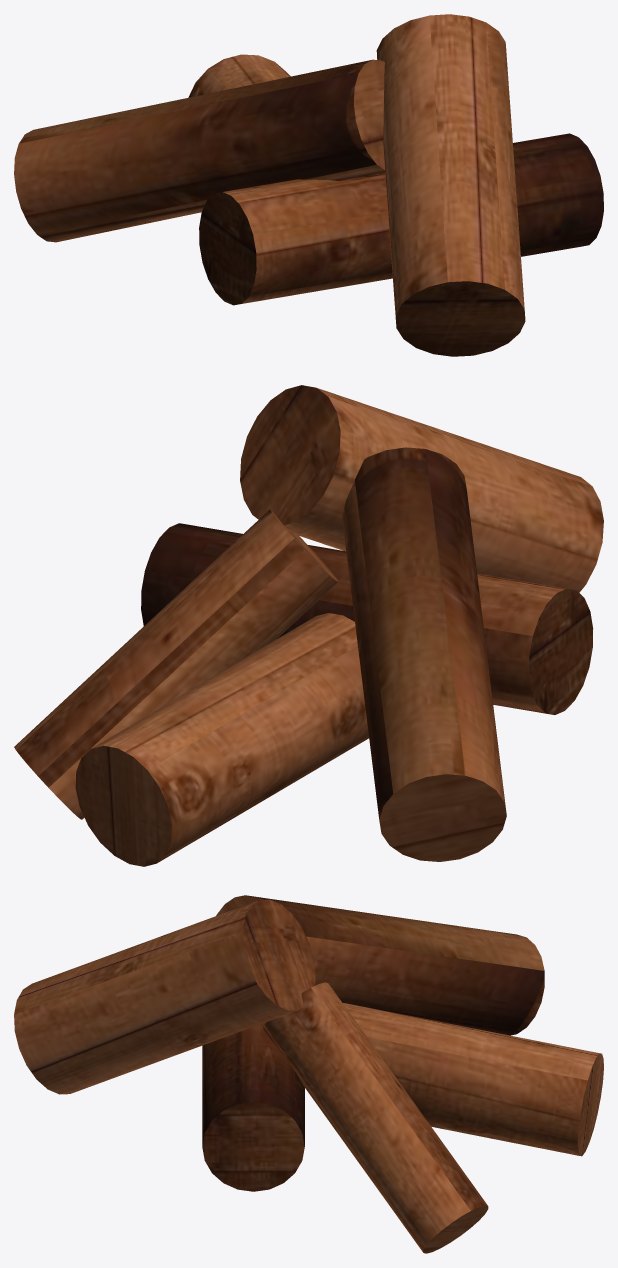
The model's file is wood.fbx.
The picture shows the model from 3 angles, top to bottom: view 1: azimuth 30°, elevation 25°; view 2: azimuth 150°, elevation 25°; view 3: azimuth 270°, elevation 25°; orthographic projection. The views are drawn at different scales.
Parts seen in each view (by area): view 1: polySurface3, polySurface1; view 2: polySurface3, polySurface1; view 3: polySurface3, polySurface1.
Boxes of the visible parts, x1=… form: polySurface3: x1=14, y1=14, x2=525, y2=356; polySurface1: x1=188, y1=54, x2=603, y2=305; polySurface3: x1=14, y1=385, x2=603, y2=861; polySurface1: x1=75, y1=523, x2=593, y2=866; polySurface3: x1=14, y1=895, x2=544, y2=1253; polySurface1: x1=202, y1=1003, x2=603, y2=1191.
Size of the model in its own units: 1.55 by 1.07 by 1.93.
